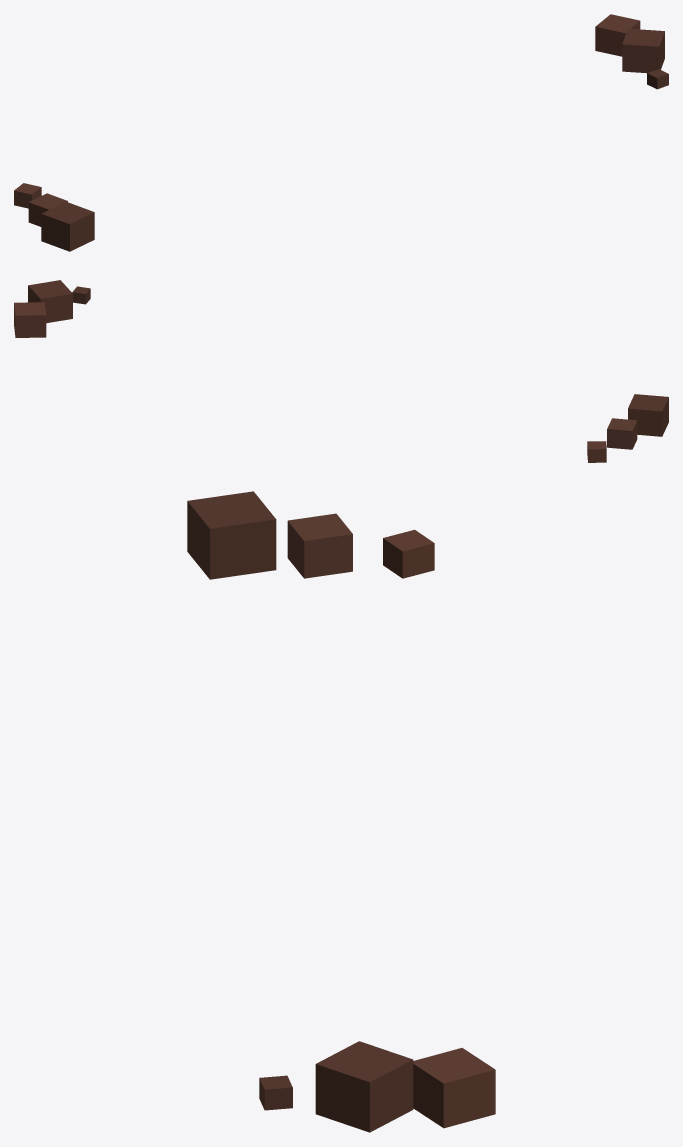
The model's file is skylight_lip_detail1.glb.
The picture shows the model from 3 angles, top to bottom: view 1: azimuth 30°, elevation 25°; view 2: azimuth 150°, elevation 25°; view 3: azimuth 270°, elevation 25°; orthographic projection. The views are drawn at different scales.
Parts seen in each view (by area): view 1: skylight_lip_detail1; view 2: skylight_lip_detail1; view 3: skylight_lip_detail1.
Boxes of the visible parts, x1=… form: skylight_lip_detail1: x1=14, y1=14, x2=668, y2=251; skylight_lip_detail1: x1=14, y1=280, x2=668, y2=462; skylight_lip_detail1: x1=187, y1=491, x2=495, y2=1132.
Size of the model in its own units: 21.06 by 0.8449 by 4.65.
